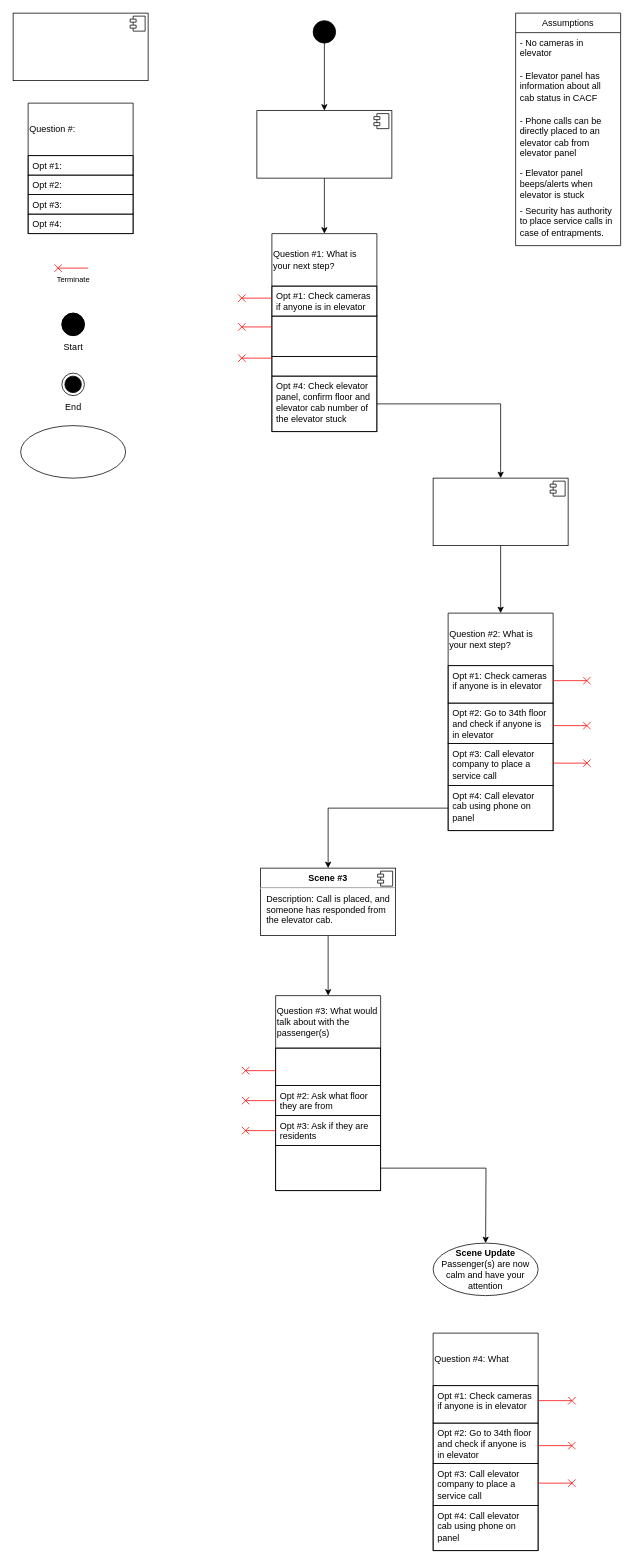
The diagram is 634 pixels wide and 1566 high, and some of its shapes have lost their labels. The shapes that lost their labels are listed below. From the top down, each one's centre as x and y in pixels, then its label:
At point 80,46: "Scene # Description:".
At point 324,144: "Scene #1 Description: Elevator panel starts beeping.".
At point 324,336: "Opt #2: Search which floor the elevator is stuck on.".
At point 324,366: "Opt #3: Ignore alarm".
At point 73,451: "Scene Update".
At point 500,511: "Scene #2 Description: The elevator is stuck around 34th floor.".
At point 328,1066: "Opt #1: Ask how many people are present in cab".
At point 328,1168: "Opt #4: Inform passengers to stay calm and not panic".
